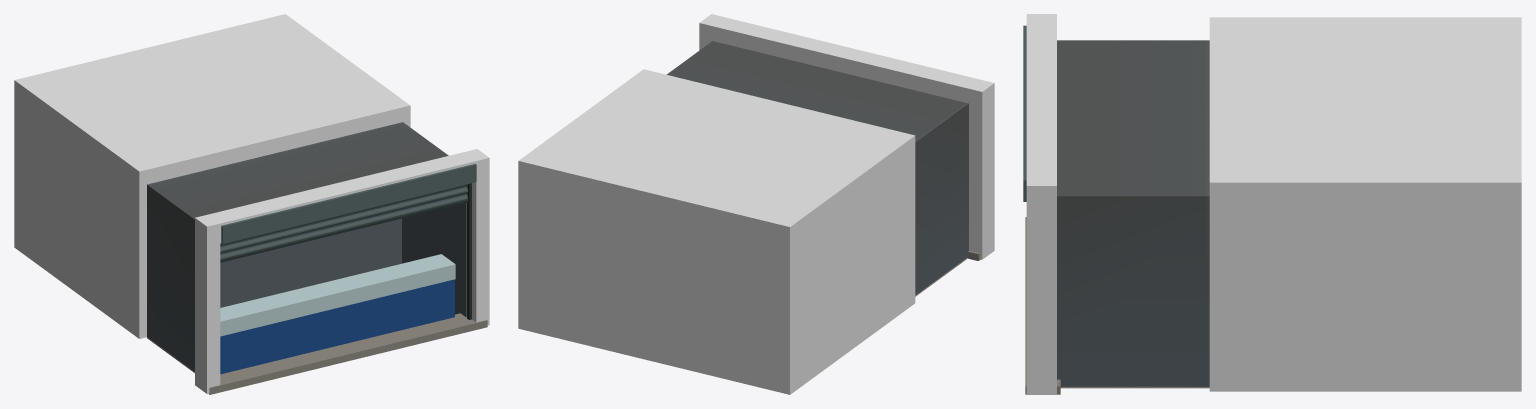
Rendered from tret_sua_dt_60.glb.
3 renders of one model, left to right at view 1: azimuth 30°, elevation 25°; view 2: azimuth 150°, elevation 25°; view 3: azimuth 270°, elevation 25°, orthographic. The views are drawn at different scales.
Parts seen in each view (by area): view 1: tret_sua_dt_60; view 2: tret_sua_dt_60; view 3: tret_sua_dt_60.
Boxes of the visible parts, bbox=[...] form: tret_sua_dt_60: bbox=[14, 14, 489, 394]; tret_sua_dt_60: bbox=[518, 14, 994, 394]; tret_sua_dt_60: bbox=[1023, 14, 1521, 394].
Size of the model in its own units: 6 by 3.42 by 7.35.
